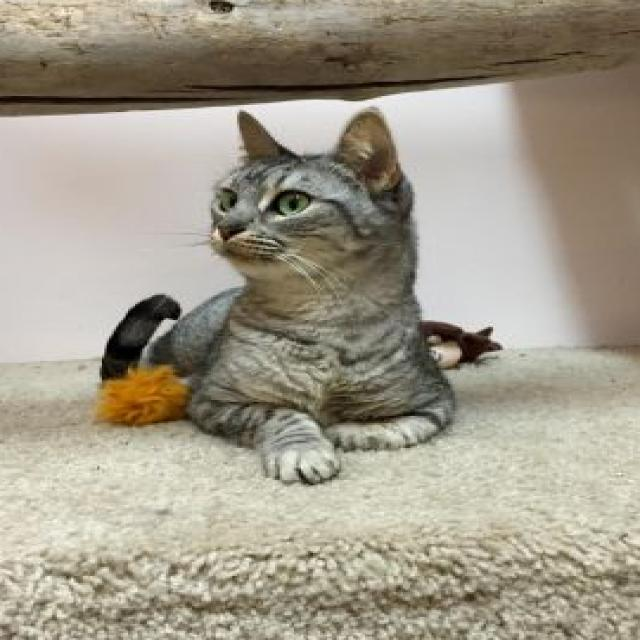Egyptian Mau: (90, 106, 470, 487)
